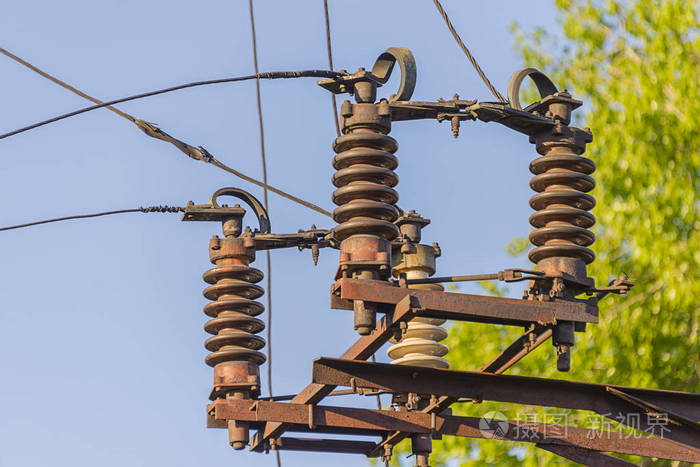insulator: (529, 150, 602, 267), (331, 132, 401, 238), (202, 261, 272, 365), (388, 279, 449, 363)
